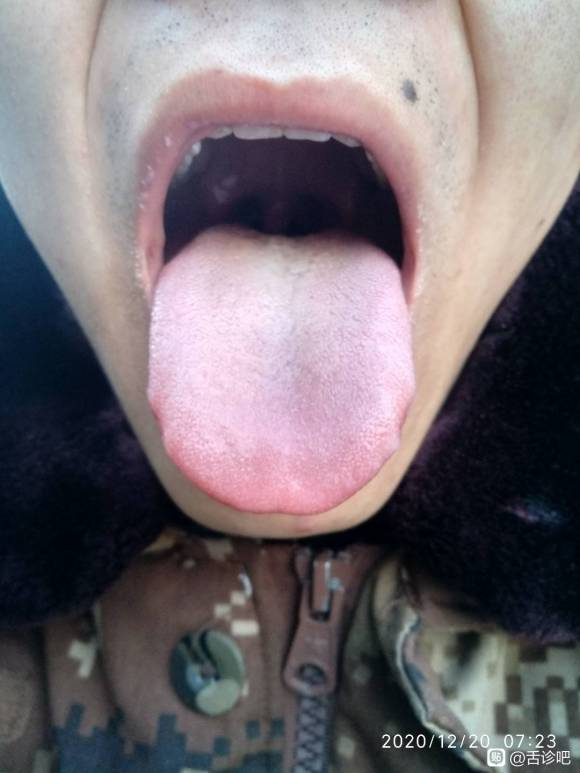baitaishe: (145, 223, 415, 513)
